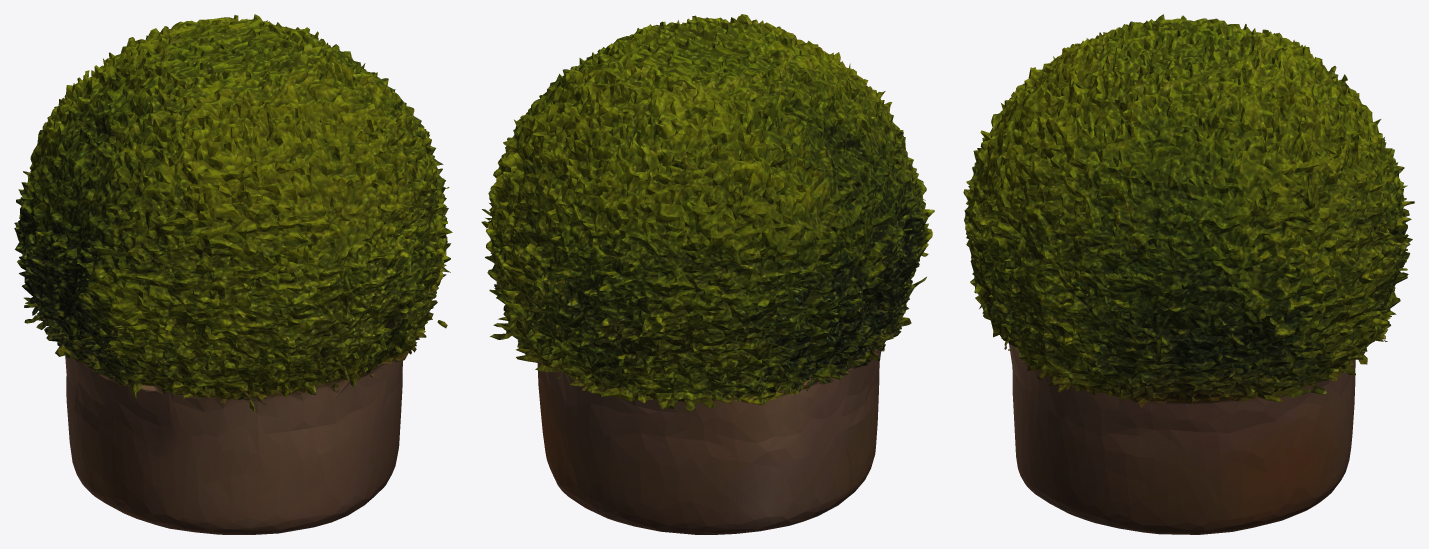
File: c01_topiary_s0.glb
3 views of the same model, side by side, from view 1: azimuth 30°, elevation 25°; view 2: azimuth 150°, elevation 25°; view 3: azimuth 270°, elevation 25° (orthographic).
Parts seen in each view (by area): view 1: textured.obj; view 2: textured.obj; view 3: textured.obj.
Boxes of the visible parts, <box> form: textured.obj: <box>14,14,452,534</box>; textured.obj: <box>481,14,934,534</box>; textured.obj: <box>963,14,1414,534</box>.
Bounding box in the file's own units: 1.83 × 1.95 × 1.86.
1 material, 1 textured.
